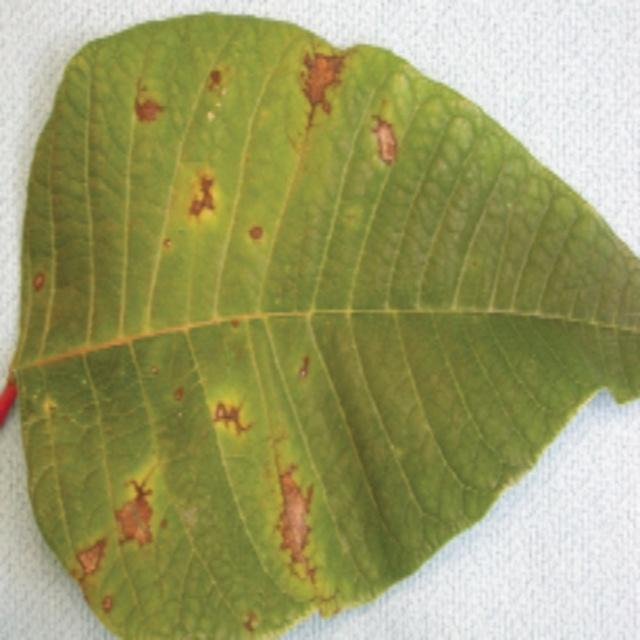leaf_spot: (7, 6, 429, 635)
